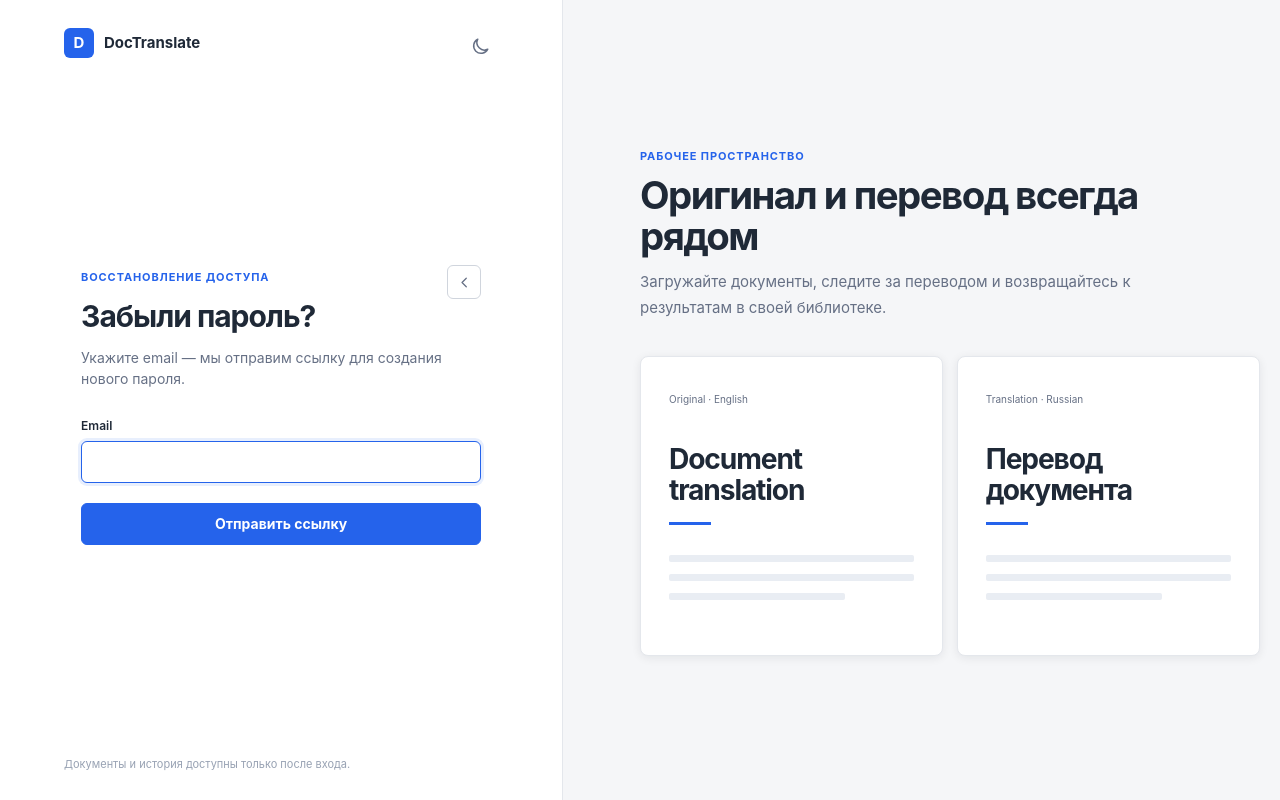
Scenario: authentication flow › requests a password reset without exposing account existence
Type "reader@example.com" into the field labelled "Email". click: [281, 462]
box: top-left (81, 440), bottom-right (481, 482)
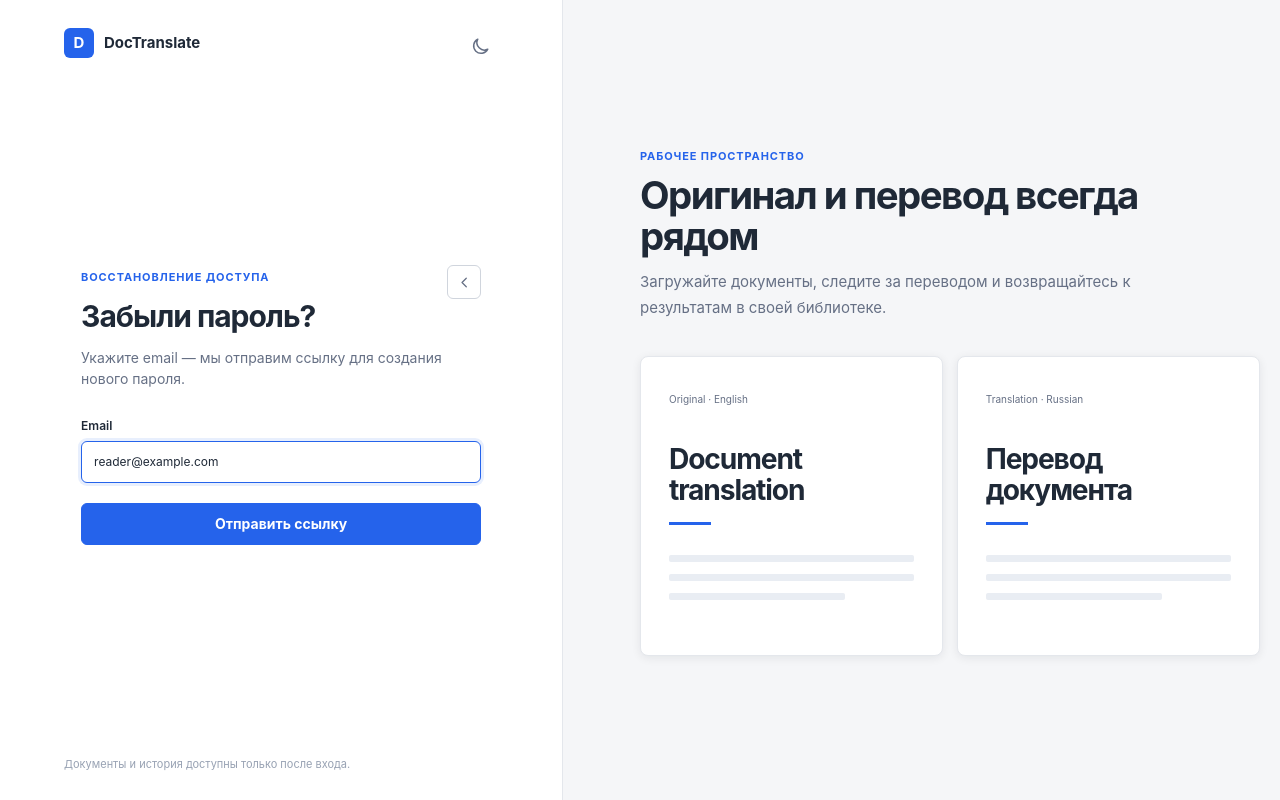
Click the button "Отправить ссылку". click: [281, 524]
box: top-left (81, 502), bottom-right (481, 544)
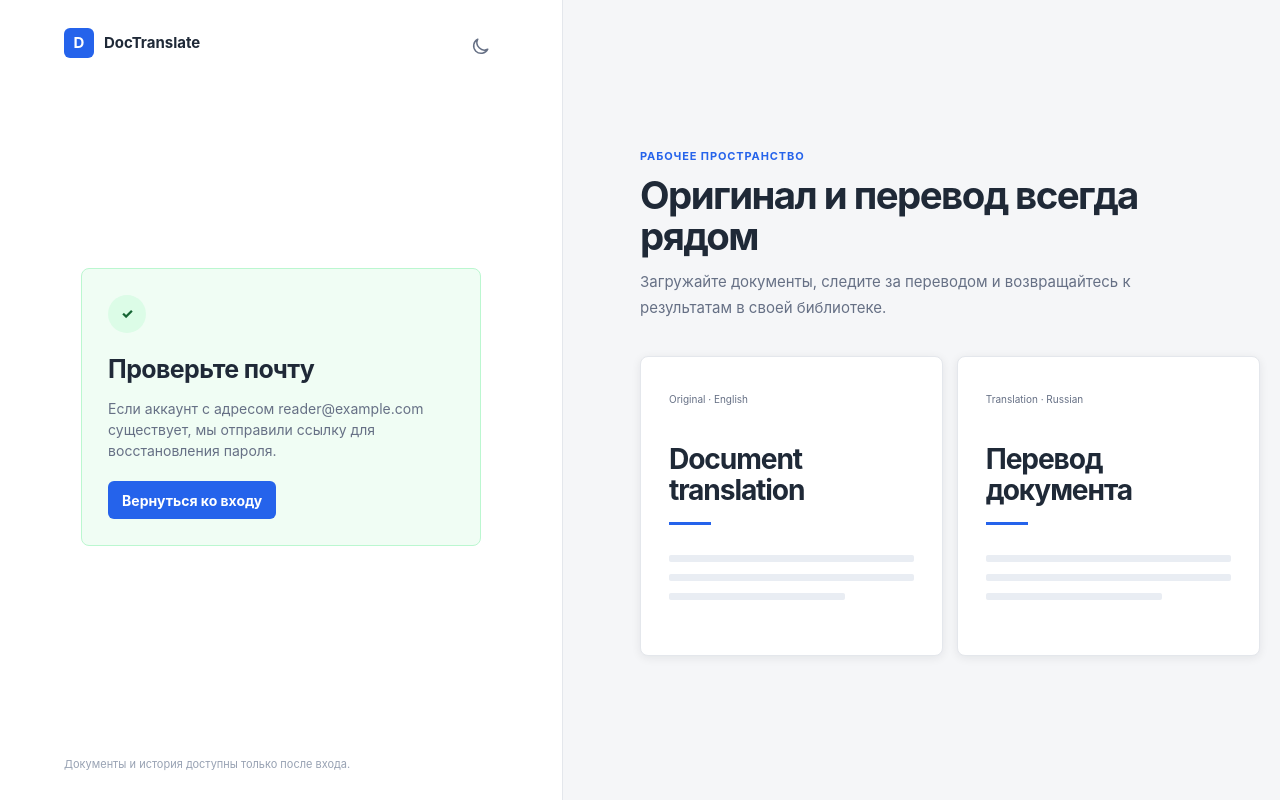
Expected: the heading "Проверьте почту" is shown, top-left (108, 354), bottom-right (314, 384)
